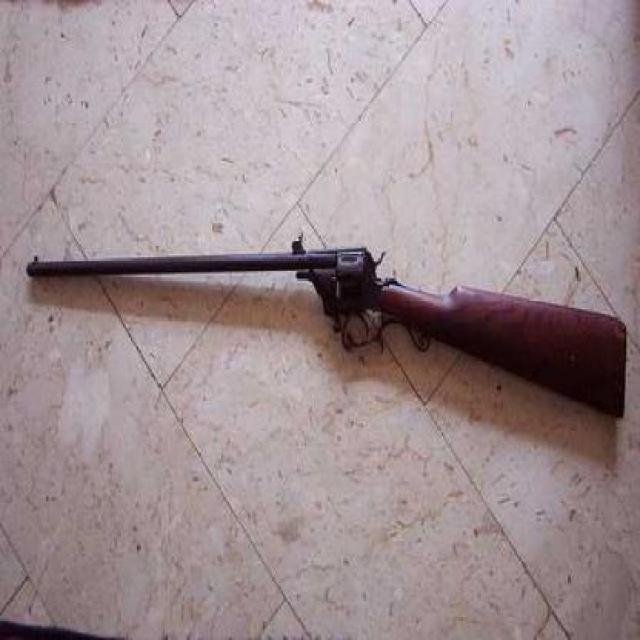weapon: (32, 247, 620, 428)
